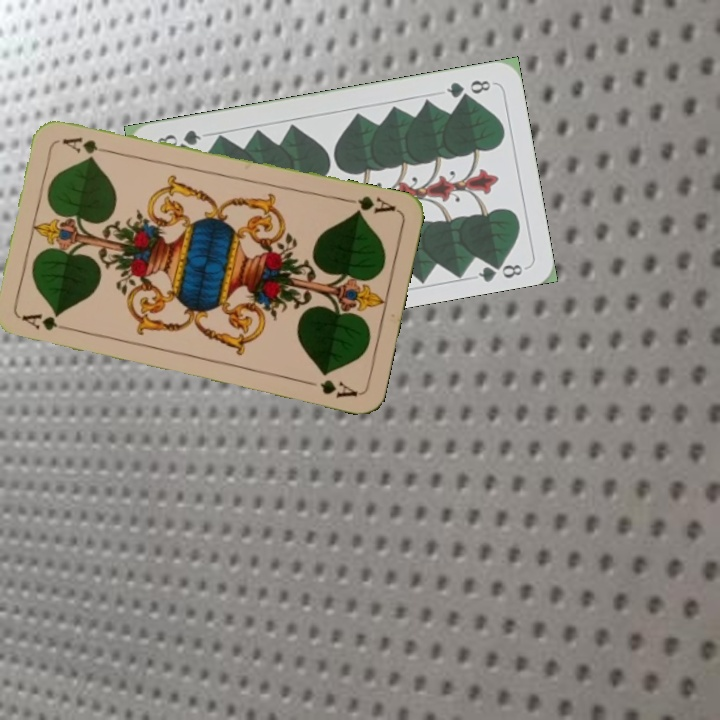G8: (442, 76, 493, 101)
GA: (340, 191, 398, 217), (18, 309, 76, 334)
